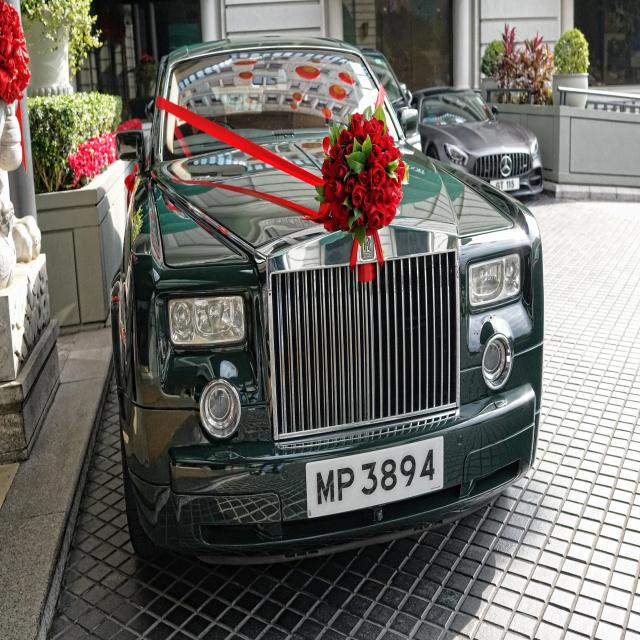Text: (303, 437, 447, 519)
